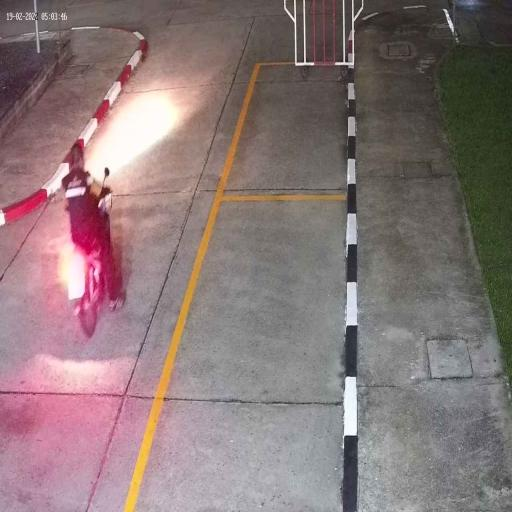motorcycle: (64, 184, 116, 340)
